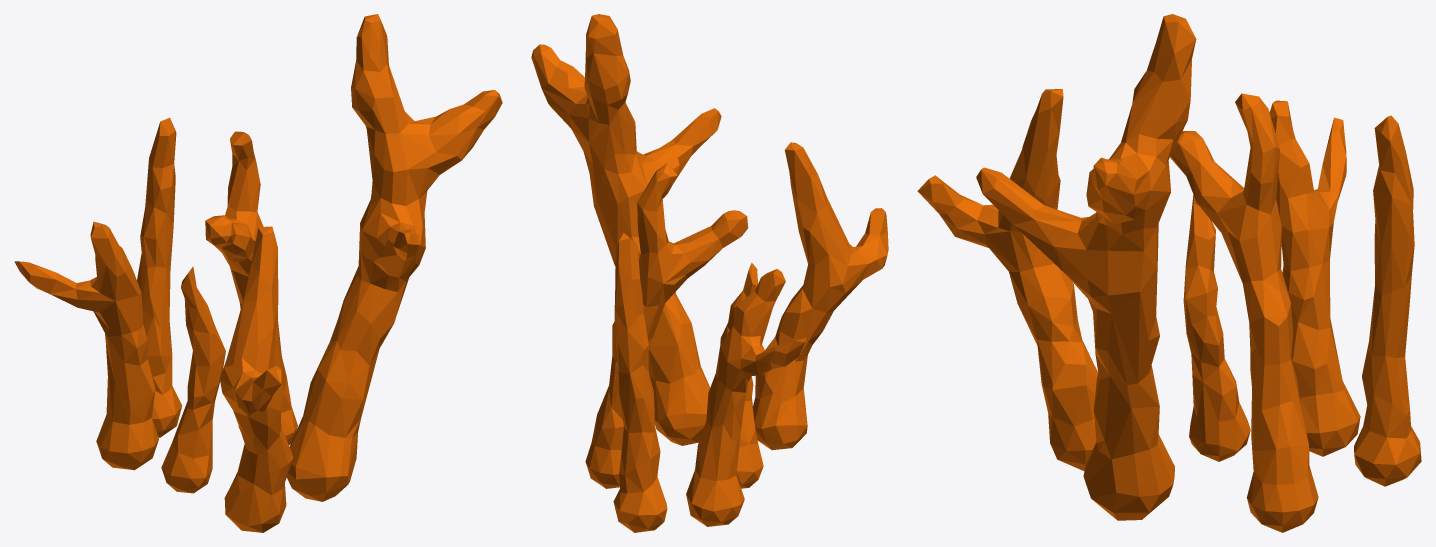
The model's file is Coral3.fbx.
The picture shows the model from 3 angles, left to right: view 1: azimuth 30°, elevation 25°; view 2: azimuth 150°, elevation 25°; view 3: azimuth 270°, elevation 25°; orthographic projection. The views are drawn at different scales.
Visible parts, largest first — view 1: Coral.003; view 2: Coral.003; view 3: Coral.003.
Part boxes in pixels (x1=…): Coral.003: x1=14, y1=14, x2=502, y2=532; Coral.003: x1=531, y1=14, x2=888, y2=532; Coral.003: x1=917, y1=14, x2=1421, y2=532.
Bounding box in the file's own units: 35.65 × 39.69 × 33.18.
